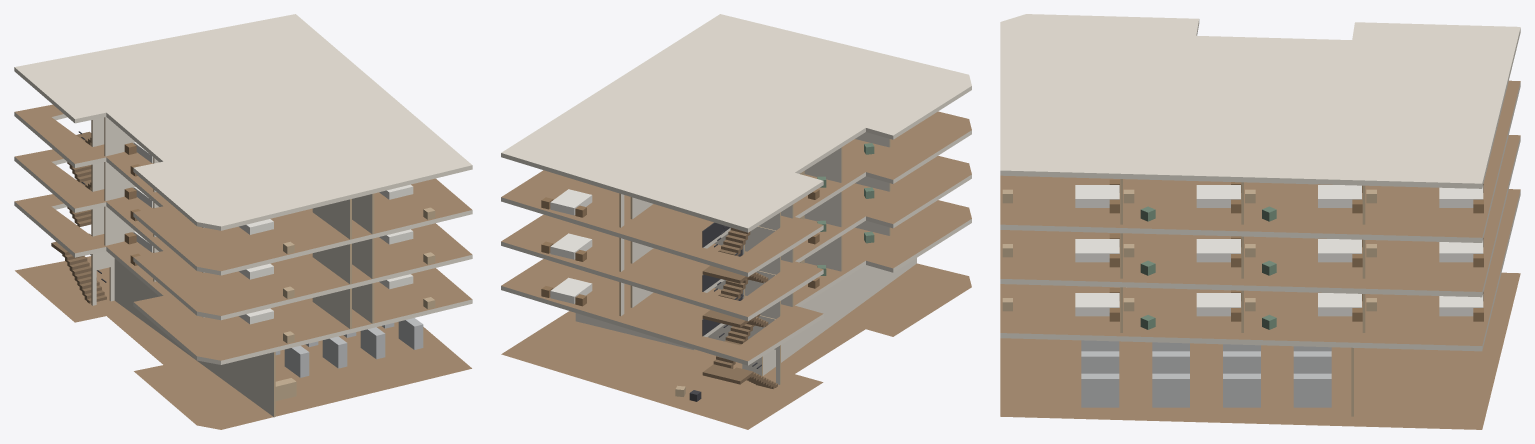
Rendered from interior.glb.
3 renders of one model, left to right at view 1: azimuth 30°, elevation 25°; view 2: azimuth 150°, elevation 25°; view 3: azimuth 270°, elevation 25°, orthographic. The views are drawn at different scales.
Visible parts, largest first — view 1: slabs, partitions, coarse-s0, stair, coarse-s3, coarse-s2, coarse-s1; view 2: slabs, partitions, stair, coarse-s3, coarse-s2, coarse-s1; view 3: slabs, coarse-s0, coarse-s2, coarse-s1, coarse-s3, partitions.
Part boxes in pixels (bbox=[...]): slabs: bbox=[14, 14, 472, 429]; partitions: bbox=[91, 117, 374, 417]; coarse-s0: bbox=[275, 318, 423, 401]; stair: bbox=[51, 131, 106, 303]; coarse-s3: bbox=[124, 142, 435, 253]; coarse-s2: bbox=[124, 187, 435, 298]; coarse-s1: bbox=[124, 231, 435, 343]; slabs: bbox=[501, 14, 971, 429]; partitions: bbox=[575, 132, 916, 384]; stair: bbox=[702, 222, 777, 388]; coarse-s3: bbox=[541, 143, 874, 217]; coarse-s2: bbox=[541, 187, 874, 261]; coarse-s1: bbox=[541, 231, 874, 306]; slabs: bbox=[1000, 14, 1520, 429]; coarse-s0: bbox=[1081, 340, 1331, 407]; coarse-s2: bbox=[1002, 233, 1483, 275]; coarse-s1: bbox=[1002, 288, 1483, 329]; coarse-s3: bbox=[1002, 179, 1483, 221]; partitions: bbox=[1120, 179, 1365, 416].
Size of the model in its own units: 18.15 by 12.3 by 23.52.
